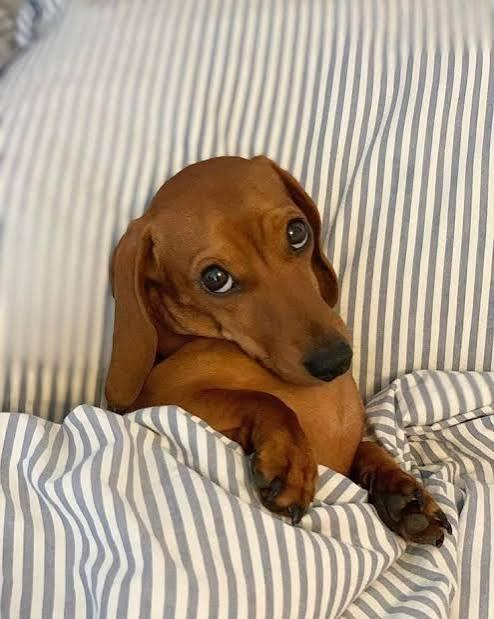adult_dog: (104, 154, 450, 549)
